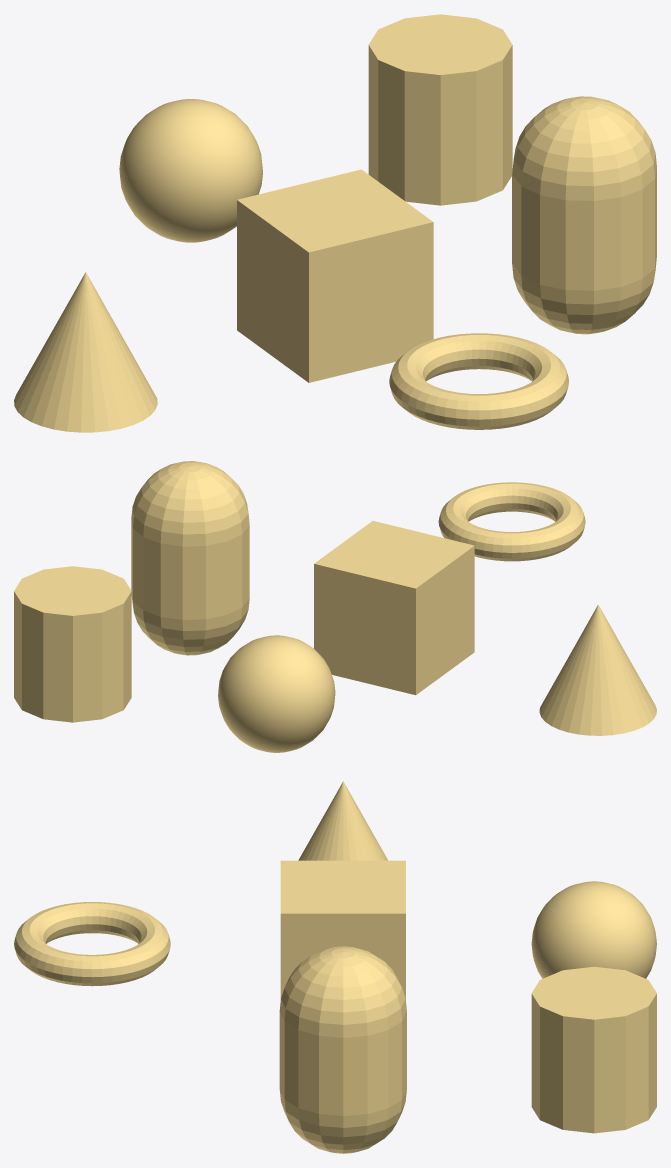
The picture shows the model from 3 angles, top to bottom: view 1: azimuth 30°, elevation 25°; view 2: azimuth 150°, elevation 25°; view 3: azimuth 270°, elevation 25°; orthographic projection. The views are drawn at different scales.
Visible parts, largest first — view 1: SM_Test_Cube-wood-gbx, SM_Test_Capsule-wood-gcp, SM_Test_Cylinder-wood-gcy, SM_Test_Icosphere-wood-gsp, SM_Test_Cone-plastic-gcx, SM_Test_Torus-wood-gcc; view 2: SM_Test_Cube-wood-gbx, SM_Test_Capsule-wood-gcp, SM_Test_Cylinder-wood-gcy, SM_Test_Icosphere-wood-gsp, SM_Test_Cone-plastic-gcx, SM_Test_Torus-wood-gcc; view 3: SM_Test_Capsule-wood-gcp, SM_Test_Cylinder-wood-gcy, SM_Test_Cube-wood-gbx, SM_Test_Icosphere-wood-gsp, SM_Test_Torus-wood-gcc, SM_Test_Cone-plastic-gcx.
Part boxes in pixels (bbox=[...]): SM_Test_Cube-wood-gbx: bbox=[237, 169, 433, 382]; SM_Test_Capsule-wood-gcp: bbox=[512, 96, 656, 334]; SM_Test_Cylinder-wood-gcy: bbox=[368, 14, 512, 205]; SM_Test_Icosphere-wood-gsp: bbox=[119, 99, 262, 242]; SM_Test_Cone-plastic-gcx: bbox=[14, 272, 157, 432]; SM_Test_Torus-wood-gcc: bbox=[389, 333, 568, 429]; SM_Test_Cube-wood-gbx: bbox=[314, 521, 474, 695]; SM_Test_Capsule-wood-gcp: bbox=[131, 461, 249, 655]; SM_Test_Cylinder-wood-gcy: bbox=[14, 566, 131, 722]; SM_Test_Icosphere-wood-gsp: bbox=[218, 635, 335, 752]; SM_Test_Cone-plastic-gcx: bbox=[539, 605, 656, 735]; SM_Test_Torus-wood-gcc: bbox=[438, 482, 585, 561]; SM_Test_Capsule-wood-gcp: bbox=[279, 946, 406, 1153]; SM_Test_Cylinder-wood-gcy: bbox=[531, 966, 656, 1133]; SM_Test_Cube-wood-gbx: bbox=[280, 860, 405, 999]; SM_Test_Icosphere-wood-gsp: bbox=[531, 881, 656, 978]; SM_Test_Torus-wood-gcc: bbox=[14, 902, 170, 986]; SM_Test_Cone-plastic-gcx: bbox=[298, 781, 387, 860].
Size of what is drawn, in the model's own units: 10.01 by 3.44 by 10.25.
